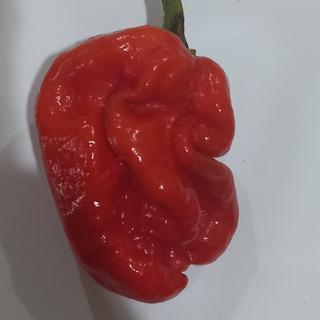Grade-A: (27, 20, 246, 307)
